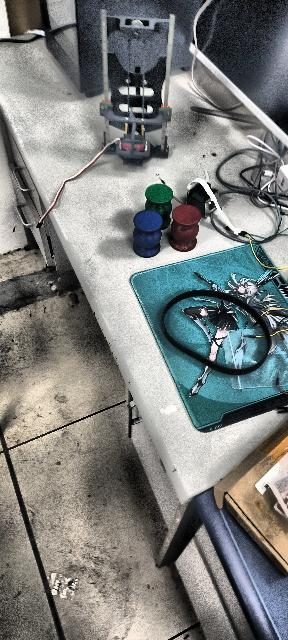blue: (132, 209, 163, 257)
green: (144, 184, 177, 232)
red: (169, 204, 201, 255)
